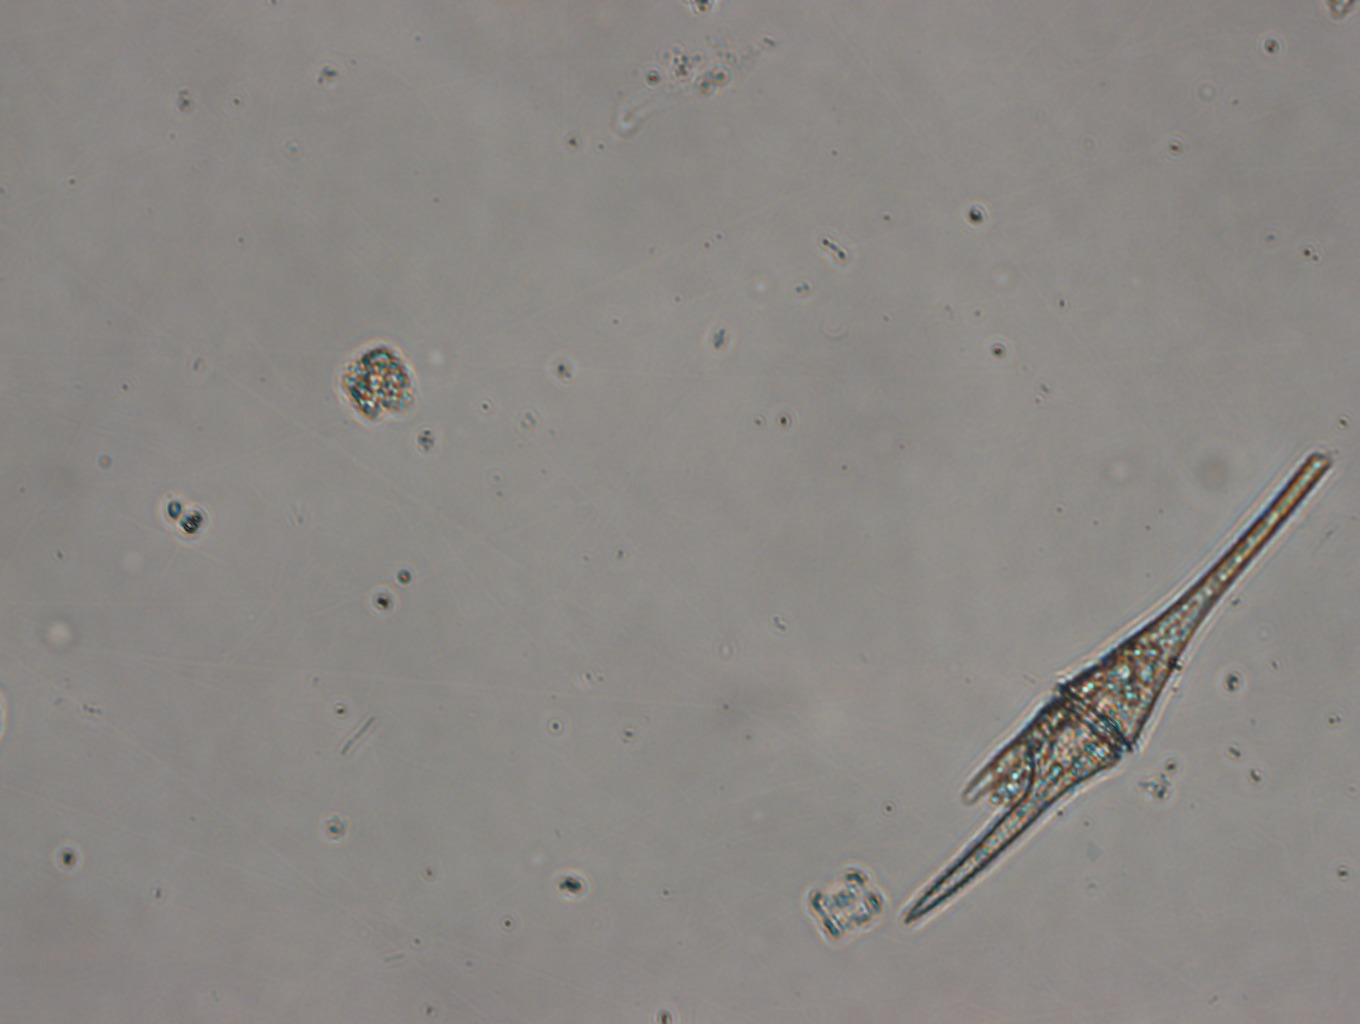ceratium furca: (899, 446, 1331, 928)
